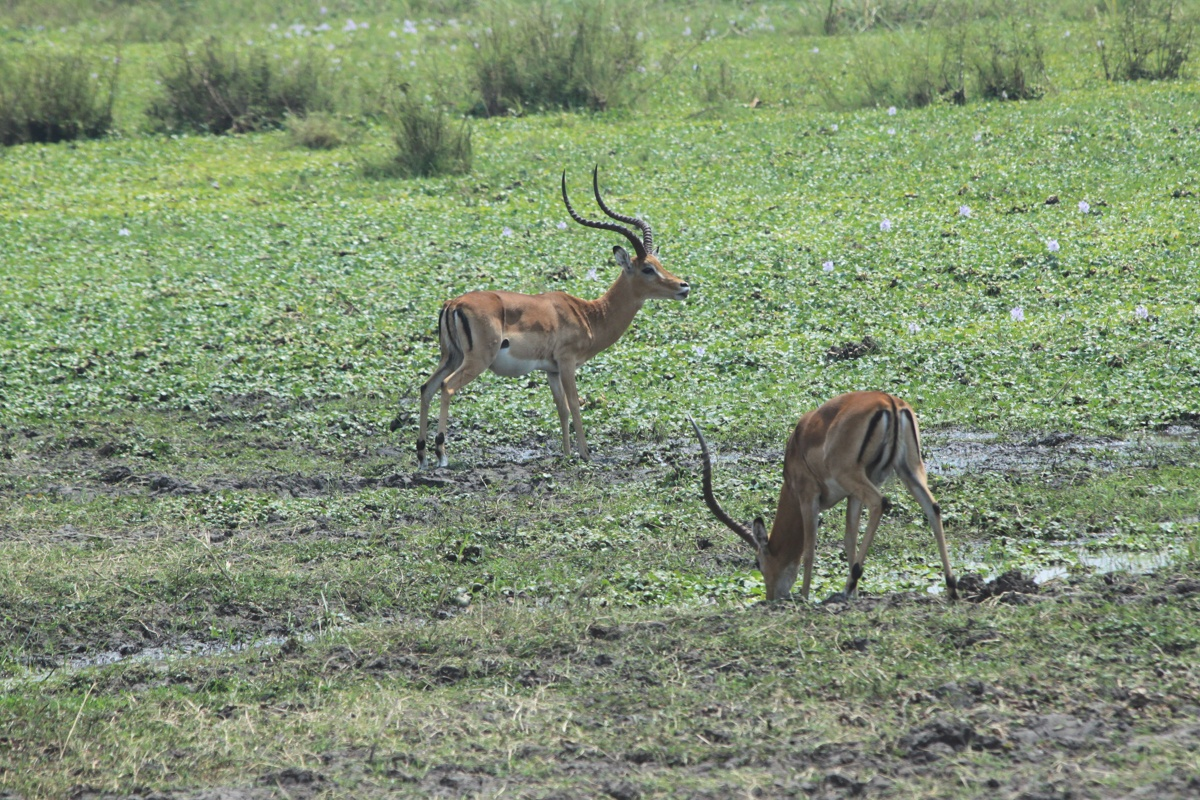impala: (406, 156, 697, 476), (676, 383, 967, 620)
